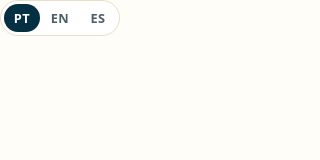
LanguageSwitcher › marks the active language and switches on click
Click the button with aria-label "English" at point(60, 18), box [42,4,78,32]
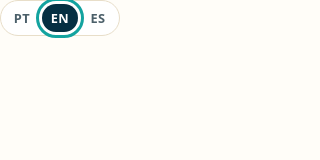
Now the button with aria-label "English" is pressed, box [42,4,78,32]
